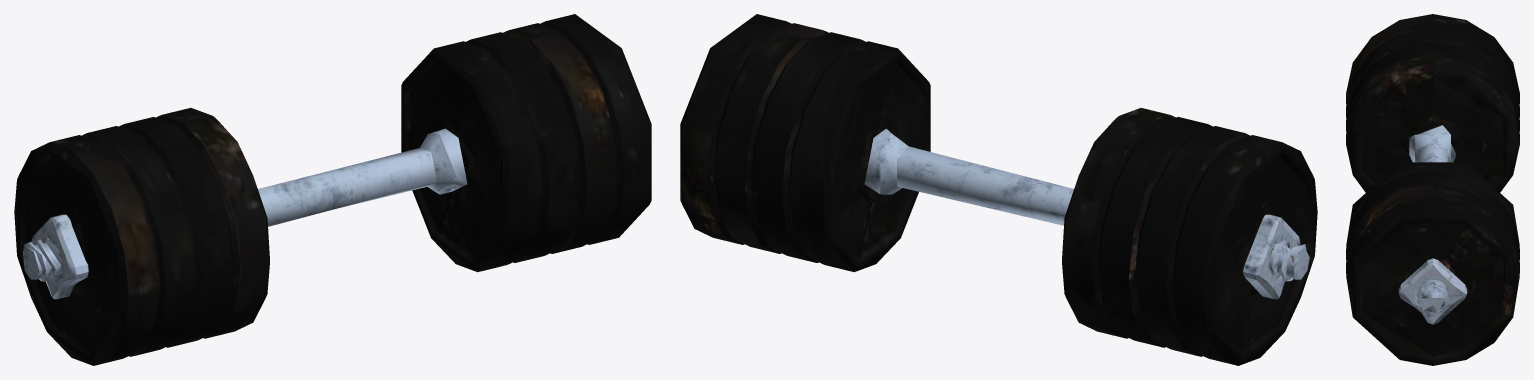
The model's file is sport_barre.glb.
3 views of the same model, side by side, from view 1: azimuth 30°, elevation 25°; view 2: azimuth 150°, elevation 25°; view 3: azimuth 270°, elevation 25° (orthographic). The views are drawn at different scales.
Visible parts, largest first — view 1: Object_4; view 2: Object_4; view 3: Object_4.
Part boxes in pixels (left/top/right/bottom): Object_4: left=14, top=14, right=651, bottom=365; Object_4: left=680, top=14, right=1317, bottom=365; Object_4: left=1346, top=14, right=1519, bottom=365.
Bounding box in the file's own units: 0.49 × 0.16 × 0.16.
1 material, 1 textured.
